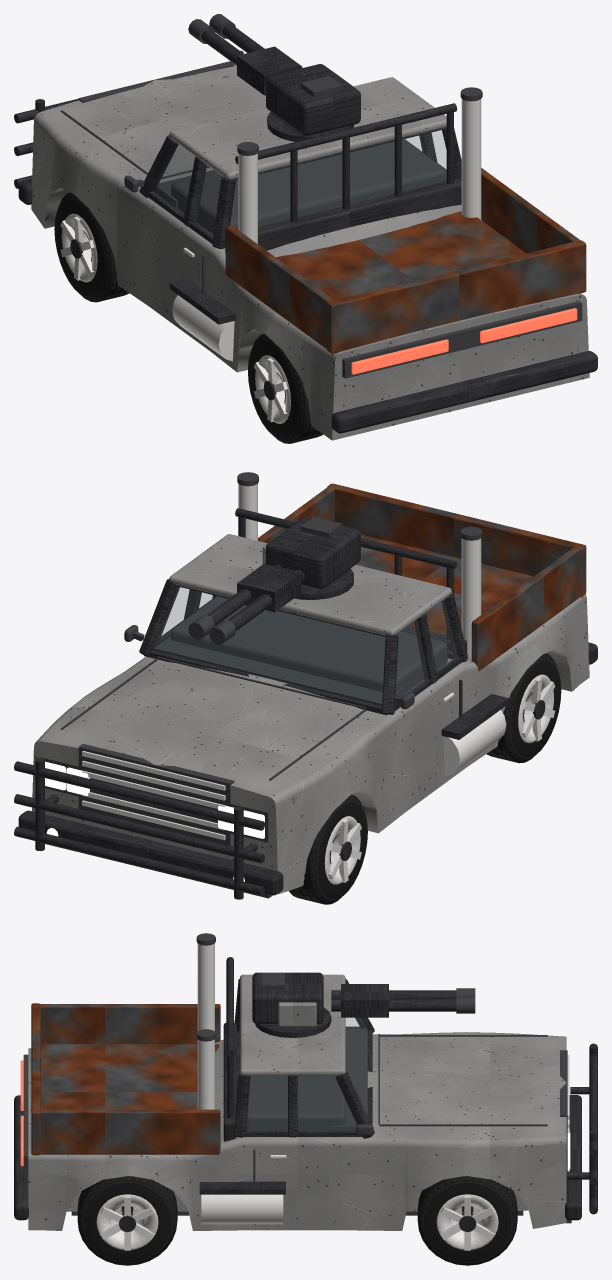
Rendered from enemy_boss_warrig.glb.
3 renders of one model, top to bottom at view 1: azimuth 30°, elevation 25°; view 2: azimuth 150°, elevation 25°; view 3: azimuth 270°, elevation 25°, orthographic. The views are drawn at different scales.
Visible parts, largest first — view 1: boss_Body, Turret, Wheel_RL, Wheel_FL, Barrel; view 2: boss_Body, Turret, Wheel_FL, Wheel_RL, Barrel; view 3: boss_Body, Wheel_FR, Wheel_RR, Turret, Barrel.
Part boxes in pixels (box(x1,y1,x2,y2)): boss_Body: box(14, 50, 597, 440); Turret: box(266, 64, 360, 141); Wheel_RL: box(248, 334, 323, 443); Wheel_FL: box(54, 192, 129, 302); Barrel: box(188, 14, 302, 95); boss_Body: box(14, 472, 597, 899); Turret: box(262, 516, 360, 599); Wheel_FL: box(289, 794, 367, 904); Wheel_RL: box(486, 653, 561, 763); Barrel: box(188, 563, 305, 644); boss_Body: box(14, 933, 597, 1230); Wheel_FR: box(417, 1176, 517, 1265); Wheel_RR: box(77, 1176, 177, 1265); Turret: box(252, 972, 331, 1037); Barrel: box(331, 984, 475, 1017).
Size of what is drawn, in the model's own units: 3.06 by 2.67 by 6.08.
Materials: 9 (4 with a texture image).
